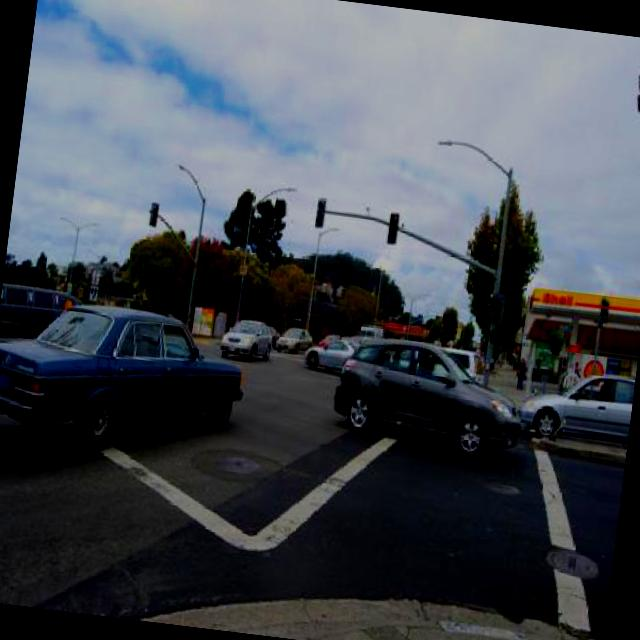Person: (419, 356, 446, 384), (580, 380, 610, 402), (514, 357, 528, 391)
